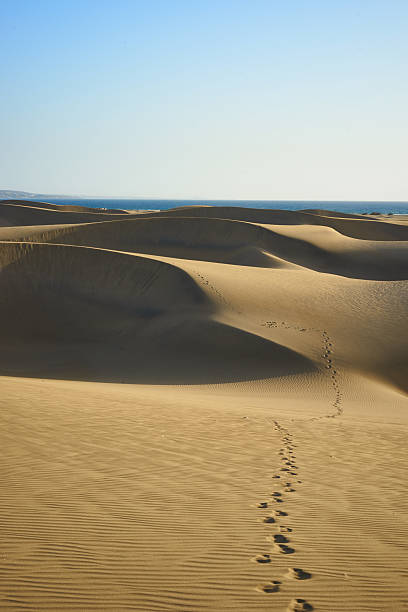human_foot_print: (261, 321, 342, 420), (301, 328, 342, 417), (270, 421, 300, 504), (270, 426, 297, 503), (322, 330, 342, 417), (322, 330, 340, 413), (275, 421, 296, 472), (256, 479, 290, 509), (279, 433, 296, 475), (261, 510, 287, 523), (287, 598, 313, 611), (256, 580, 280, 593), (286, 567, 311, 579), (266, 533, 289, 543), (275, 544, 294, 554), (253, 553, 271, 563), (273, 533, 289, 543), (271, 491, 282, 502), (281, 467, 296, 475), (262, 515, 275, 523), (278, 525, 292, 532), (285, 461, 297, 469), (284, 483, 295, 491), (286, 461, 297, 469), (288, 447, 295, 459), (256, 501, 268, 508), (275, 510, 287, 516), (288, 453, 295, 462), (271, 491, 281, 496), (283, 457, 290, 464), (281, 467, 290, 472), (284, 487, 295, 491), (278, 449, 284, 456), (283, 481, 291, 486), (273, 498, 283, 502), (289, 471, 296, 475), (288, 446, 293, 451), (272, 475, 280, 478), (297, 480, 301, 483)
